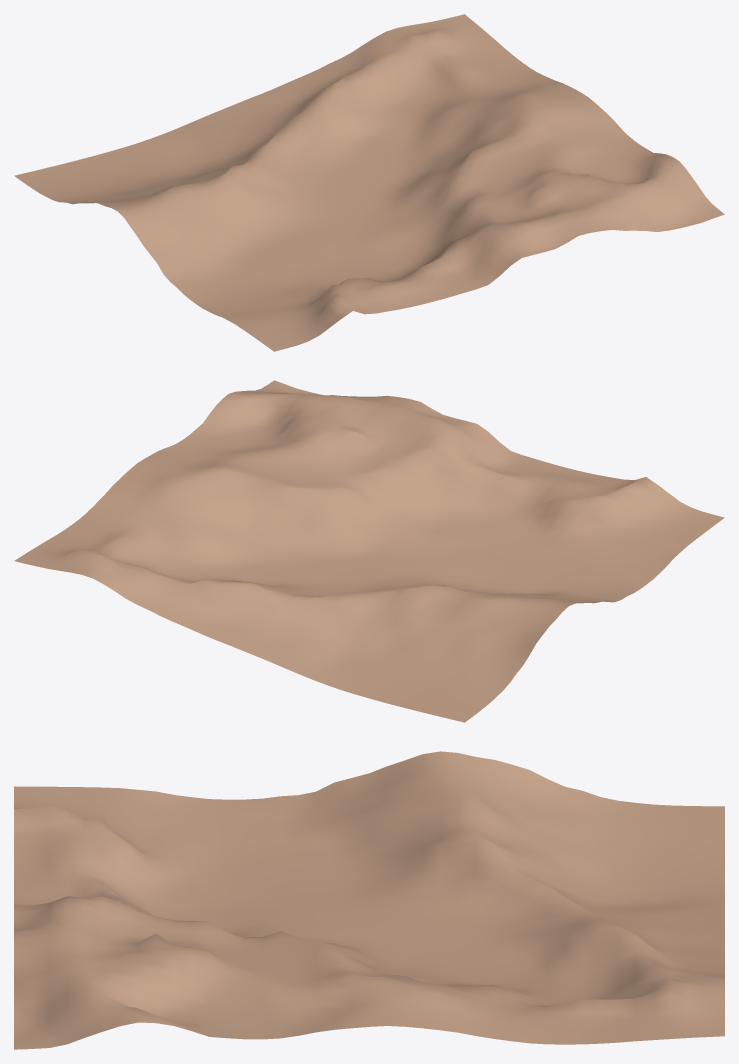
The picture shows the model from 3 angles, top to bottom: view 1: azimuth 30°, elevation 25°; view 2: azimuth 150°, elevation 25°; view 3: azimuth 270°, elevation 25°; orthographic projection. The views are drawn at different scales.
Visible parts, largest first — view 1: DM_lod_1; view 2: DM_lod_1; view 3: DM_lod_1.
Boxes of the visible parts, left/top/right/bottom form: DM_lod_1: left=14, top=14, right=724, bottom=351; DM_lod_1: left=14, top=380, right=724, bottom=722; DM_lod_1: left=14, top=751, right=724, bottom=1049.
Bounding box in the file's own units: 300 × 39.41 × 300.
